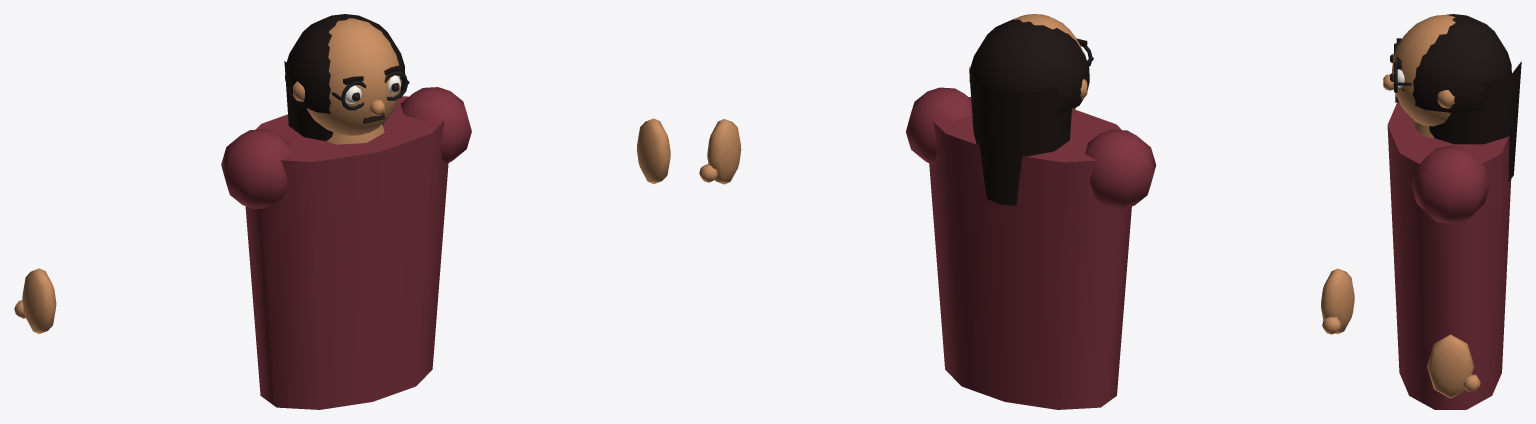
File: avatar-wine.glb
The picture shows the model from 3 angles, left to right: view 1: azimuth 30°, elevation 25°; view 2: azimuth 150°, elevation 25°; view 3: azimuth 270°, elevation 25°; orthographic projection. The views are drawn at different scales.
Parts seen in each view (by area): view 1: Torso, Skull, ShoulderR, Hair, ShoulderL, HandL, HandR, HairFall; view 2: Torso, HairFall, Hair, ShoulderR, ShoulderL, HandL, HandR; view 3: Torso, Hair, ShoulderL, HairFall, Skull, HandL, EarL, HandL_Thumb, Collar.
Part boxes in pixels (left/top/right/bottom): Torso: left=245, top=96, right=448, bottom=409; Skull: left=306, top=18, right=401, bottom=135; ShoulderR: left=221, top=129, right=292, bottom=209; Hair: left=285, top=14, right=405, bottom=113; ShoulderL: left=400, top=87, right=471, bottom=163; HandL: left=636, top=118, right=670, bottom=184; HandR: left=22, top=268, right=56, bottom=334; HairFall: left=284, top=61, right=383, bottom=141; Torso: left=929, top=97, right=1131, bottom=409; HairFall: left=969, top=67, right=1071, bottom=205; Hair: left=969, top=18, right=1089, bottom=114; ShoulderR: left=1085, top=129, right=1156, bottom=209; ShoulderL: left=906, top=87, right=972, bottom=163; HandL: left=707, top=119, right=741, bottom=184; HandR: left=1321, top=268, right=1354, bottom=334; Torso: left=1387, top=102, right=1511, bottom=409; Hair: left=1402, top=14, right=1511, bottom=112; ShoulderL: left=1411, top=145, right=1489, bottom=224; HairFall: left=1429, top=61, right=1521, bottom=181; Skull: left=1392, top=15, right=1455, bottom=126; HandL: left=1427, top=334, right=1474, bottom=398; EarL: left=1437, top=90, right=1454, bottom=108; HandL_Thumb: left=1463, top=374, right=1480, bottom=391; Collar: left=1412, top=119, right=1434, bottom=138.
Size of the model in its own units: 1.37 by 0.7424 by 0.2632.
